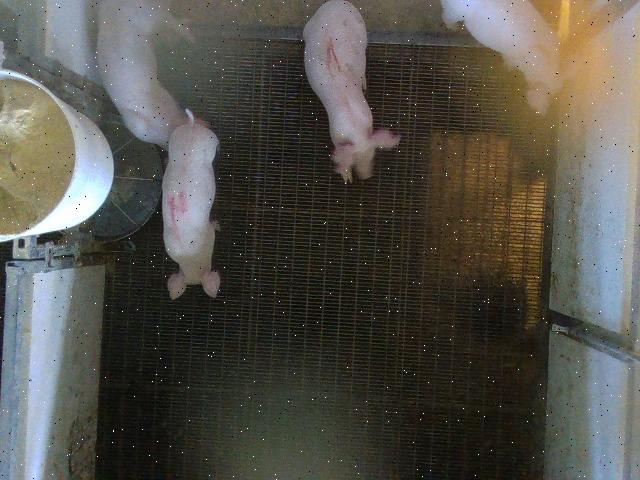pig-4: (162, 109, 220, 299)
